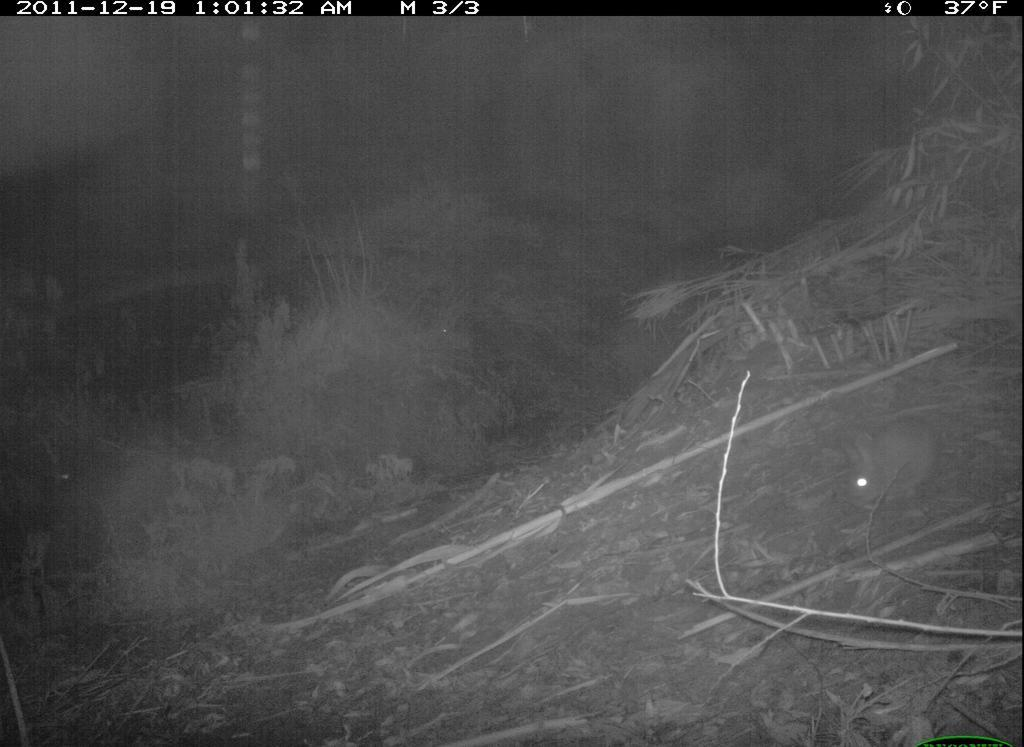rabbit: (838, 406, 952, 524)
